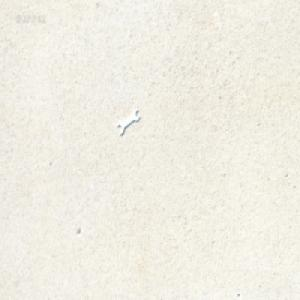Wrench: (116, 108, 138, 136)
